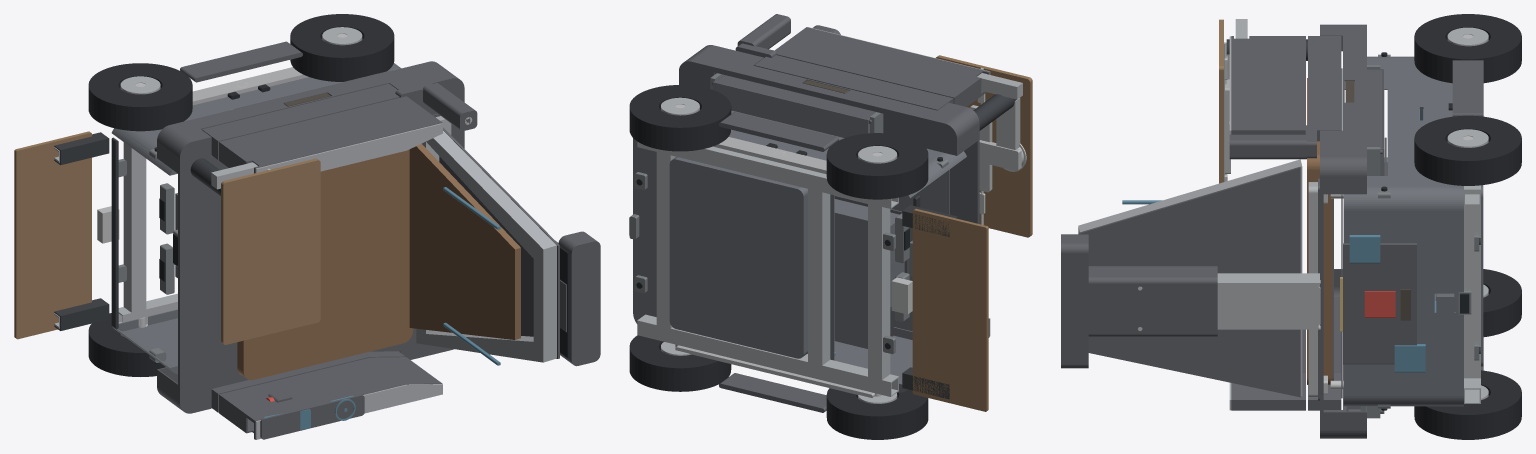
Rendered from workcore_e6_dfr5_cafe_footrest_open.glb.
The picture shows the model from 3 angles, left to right: view 1: azimuth 30°, elevation 25°; view 2: azimuth 150°, elevation 25°; view 3: azimuth 270°, elevation 25°; orthographic projection. The views are drawn at different scales.
Visible parts, largest first — view 1: seat_cushion_envelope, upper_deck_panel, desk_panel_right, backrest_cushion_envelope, footrest_platform_deployed_locked, backrest_structural_carrier, armrest_shell_right, armrest_shell_left, tyre_front_right, tyre_rear_right, lower_body_enclosure, sensor_beam_shell_stowed (+22 smaller); view 2: battery_safety_cassette, footrest_platform_deployed_locked, upper_deck_panel, lower_body_enclosure, armrest_shell_right, tyre_front_right, tyre_rear_right, desk_panel_right, chassis_rail_left, tyre_front_left, chassis_crossmember_2, chassis_crossmember_1 (+25 smaller); view 3: backrest_rear_cosmetic_shell, lower_body_enclosure, mast_outer_cosmetic_shroud_stowed, upper_deck_panel, armrest_shell_right, service_rear_flush_door, tyre_rear_right, mast_inner_stowed, tyre_front_right, tyre_rear_left, sensor_beam_shell_stowed, armrest_base_shell_right (+18 smaller).
Part boxes in pixels (box(x1,y1,x2,y2)): seat_cushion_envelope: box(237, 149, 413, 380); upper_deck_panel: box(157, 61, 464, 413); desk_panel_right: box(221, 158, 320, 344); backrest_cushion_envelope: box(409, 144, 520, 339); footrest_platform_deployed_locked: box(14, 131, 91, 339); backrest_structural_carrier: box(416, 130, 556, 362); armrest_shell_right: box(219, 96, 442, 173); armrest_shell_left: box(219, 357, 442, 439); tyre_front_right: box(88, 63, 192, 131); tyre_rear_right: box(290, 14, 394, 81); lower_body_enclosure: box(111, 63, 401, 374); sensor_beam_shell_stowed: box(558, 231, 600, 366); battery_safety_cassette: box(669, 157, 807, 358); footrest_platform_deployed_locked: box(912, 208, 988, 411); upper_deck_panel: box(679, 45, 979, 223); lower_body_enclosure: box(633, 110, 966, 392); armrest_shell_right: box(775, 27, 989, 106); tyre_front_right: box(826, 133, 928, 199); tyre_rear_right: box(629, 85, 731, 151); desk_panel_right: box(936, 55, 1032, 237); chassis_rail_left: box(637, 314, 898, 396); tyre_front_left: box(826, 388, 928, 439); chassis_crossmember_2: box(808, 182, 830, 371); chassis_crossmember_1: box(868, 199, 890, 386); backrest_rear_cosmetic_shell: box(1078, 166, 1300, 397); lower_body_enclosure: box(1343, 56, 1463, 406); mast_outer_cosmetic_shroud_stowed: box(1088, 266, 1217, 336); upper_deck_panel: box(1320, 24, 1366, 438); armrest_shell_right: box(1231, 36, 1305, 134); service_rear_flush_door: box(1343, 243, 1416, 364); tyre_rear_right: box(1414, 115, 1521, 185); mast_inner_stowed: box(1217, 273, 1320, 329); tyre_front_right: box(1414, 14, 1521, 83); tyre_rear_left: box(1414, 370, 1521, 439); sensor_beam_shell_stowed: box(1061, 234, 1088, 368); armrest_base_shell_right: box(1308, 36, 1341, 141).
Size of the model in its own units: 1.06 by 0.735 by 1.07.
